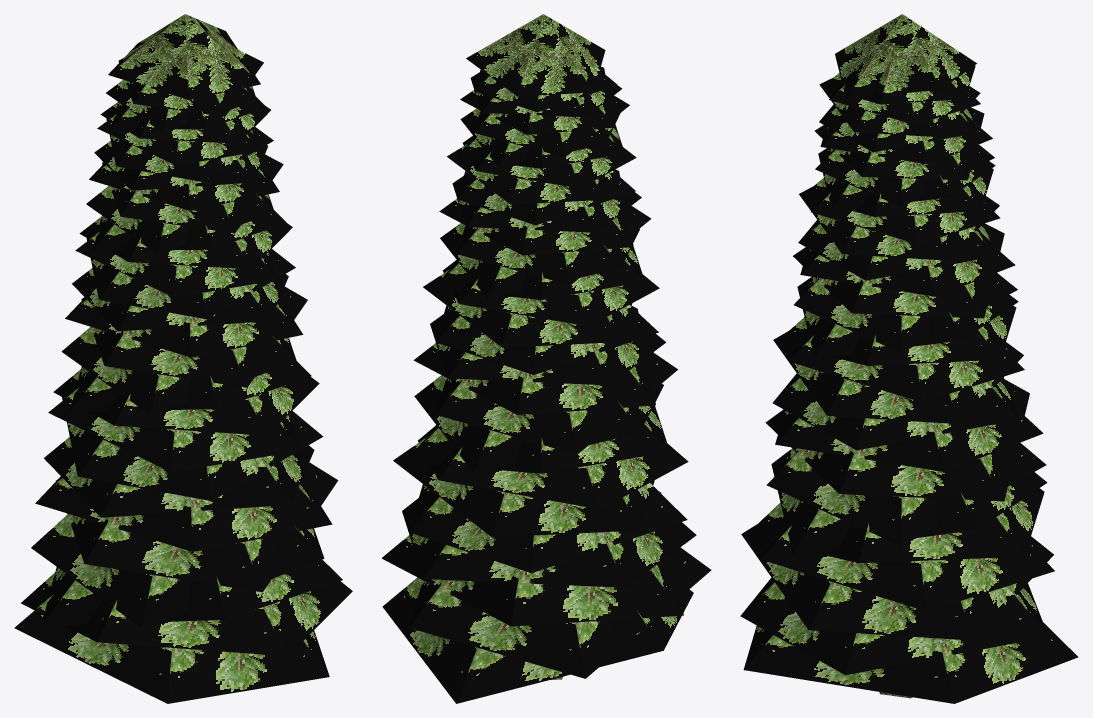
The model's file is tree_1.glb.
3 views of the same model, side by side, from view 1: azimuth 30°, elevation 25°; view 2: azimuth 150°, elevation 25°; view 3: azimuth 270°, elevation 25° (orthographic). The views are drawn at different scales.
Parts seen in each view (by area): view 1: tree; view 2: tree; view 3: tree.
Boxes of the visible parts, bbox=[...] form: tree: bbox=[14, 14, 352, 703]; tree: bbox=[381, 14, 711, 703]; tree: bbox=[740, 14, 1078, 703].
Size of what is drawn, in the model's own units: 5.9 by 13.2 by 6.02.
Materials: 2 (2 with a texture image).
